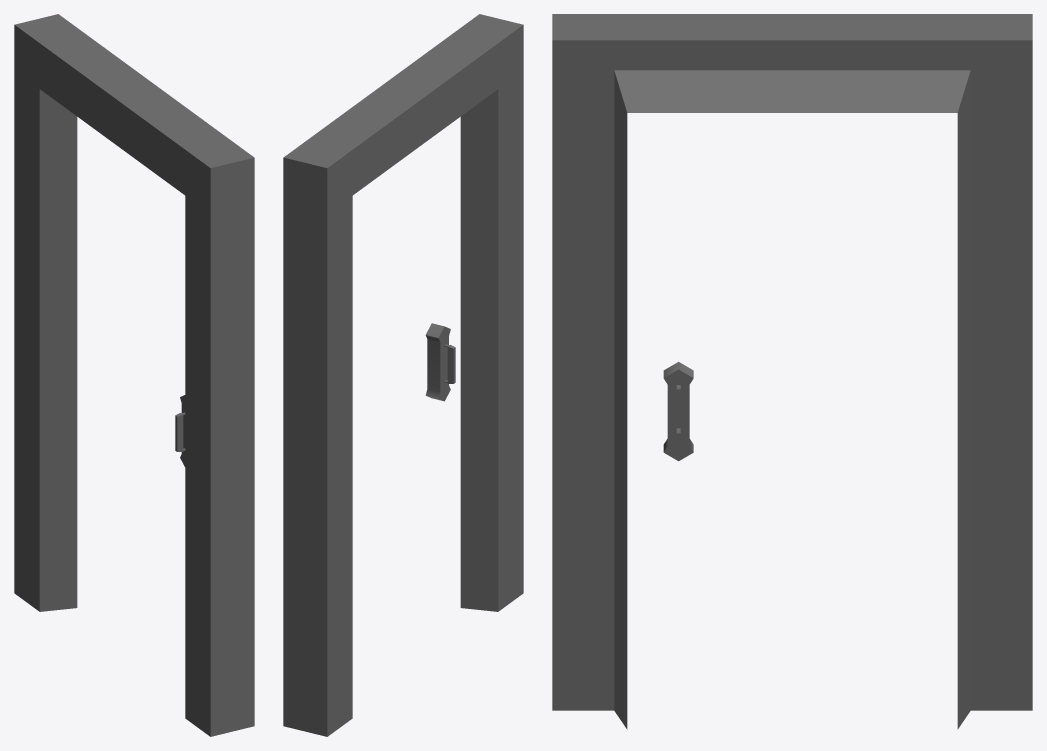
File: Door.fbx
The picture shows the model from 3 angles, left to right: view 1: azimuth 30°, elevation 25°; view 2: azimuth 150°, elevation 25°; view 3: azimuth 270°, elevation 25°; orthographic projection. The views are drawn at different scales.
Parts seen in each view (by area): view 1: polySurface144; view 2: polySurface144; view 3: polySurface144.
Part boxes in pixels (x1,y1,x2,y2): polySurface144: (14, 14, 254, 736); polySurface144: (283, 14, 523, 736); polySurface144: (552, 14, 1032, 729).
Size of the model in its own units: 0.1743 by 2.16 by 1.35.
